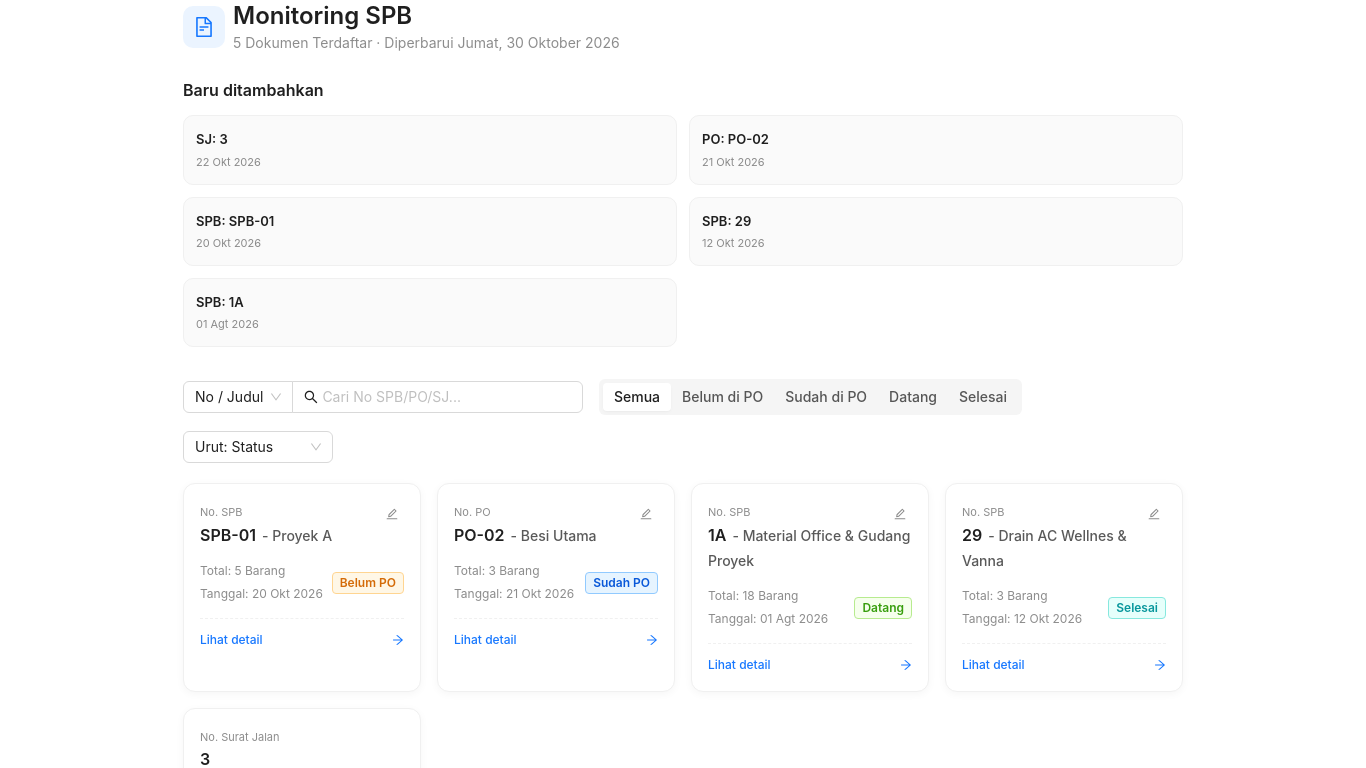
Test: MonitoringSPBPage - Fitur Pencarian, Filter, Sorting, dan Edit Judul › menampilkan ikon pensil kecil pada card SPB dan PO serta dapat mengedit judulnya
This screenshot has width=1366, height=768.
Check: the button with test id "edit-po-title-PO-02" is shown, box [634,503,658,523]
// Klik ikon pensil pada SPB-01
Click the button with test id "edit-spb-title-SPB-01": (392,513) [380,503,404,523]
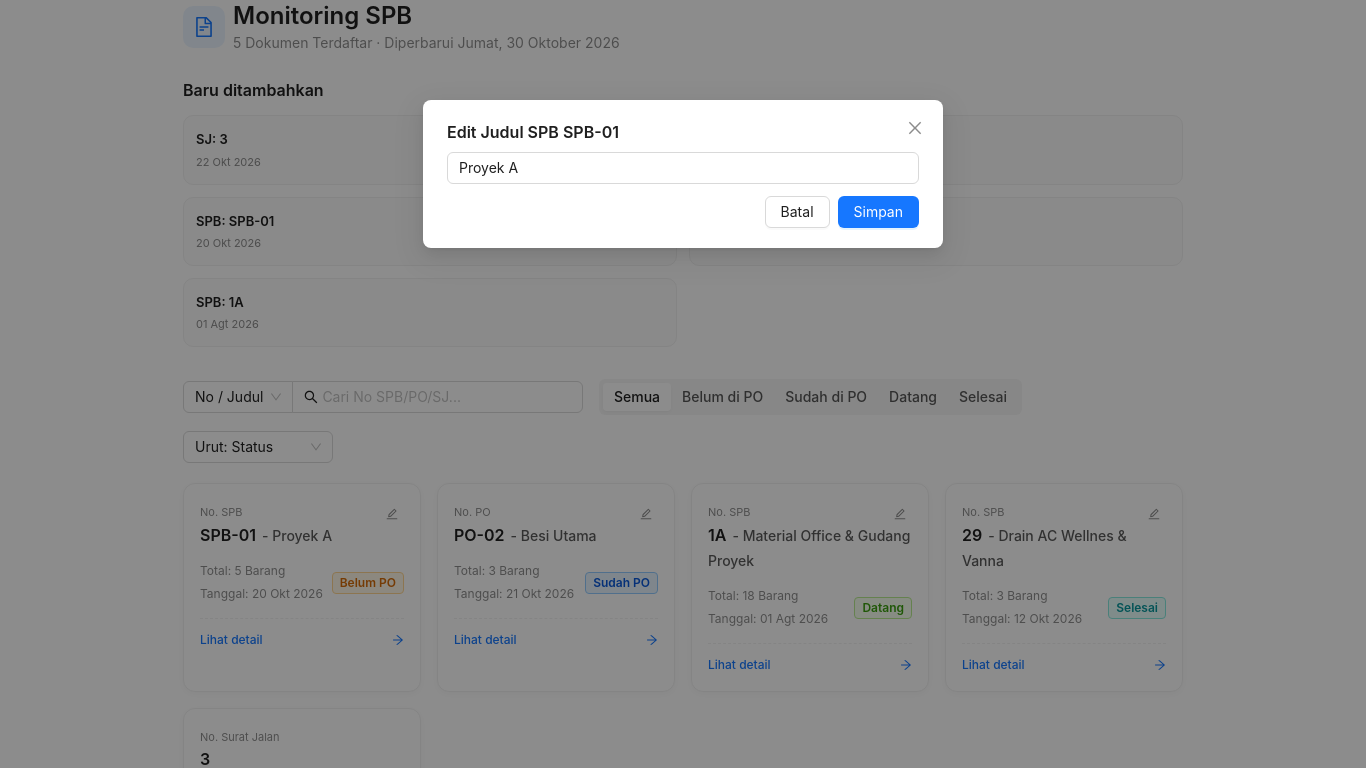
Check: the field named "Input Judul Dokumen" holds "Proyek A"
Replace the text in the field named "Input Judul Dokumen" with "Proyek Renovasi Villa": (683,168) [447,152,919,184]
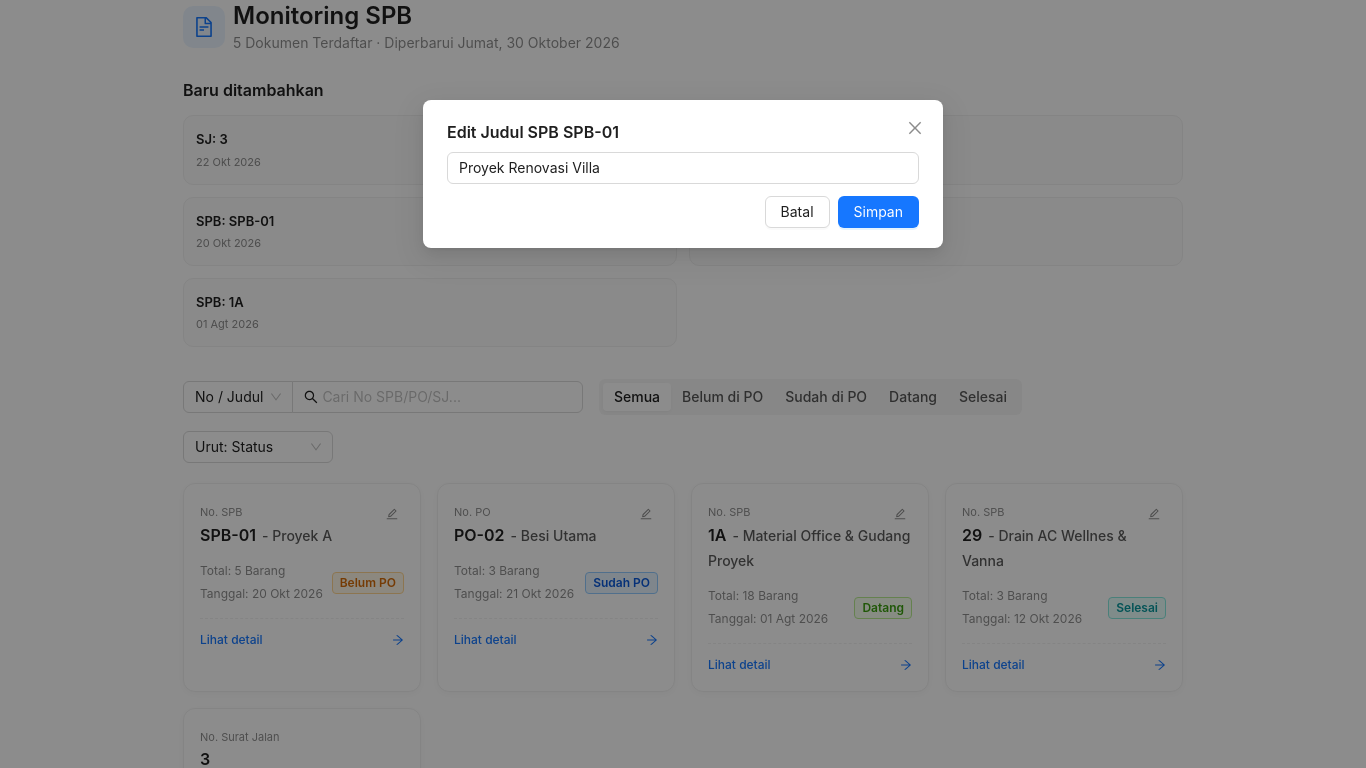
Click the button "Simpan": (878,212) [838,196,919,228]
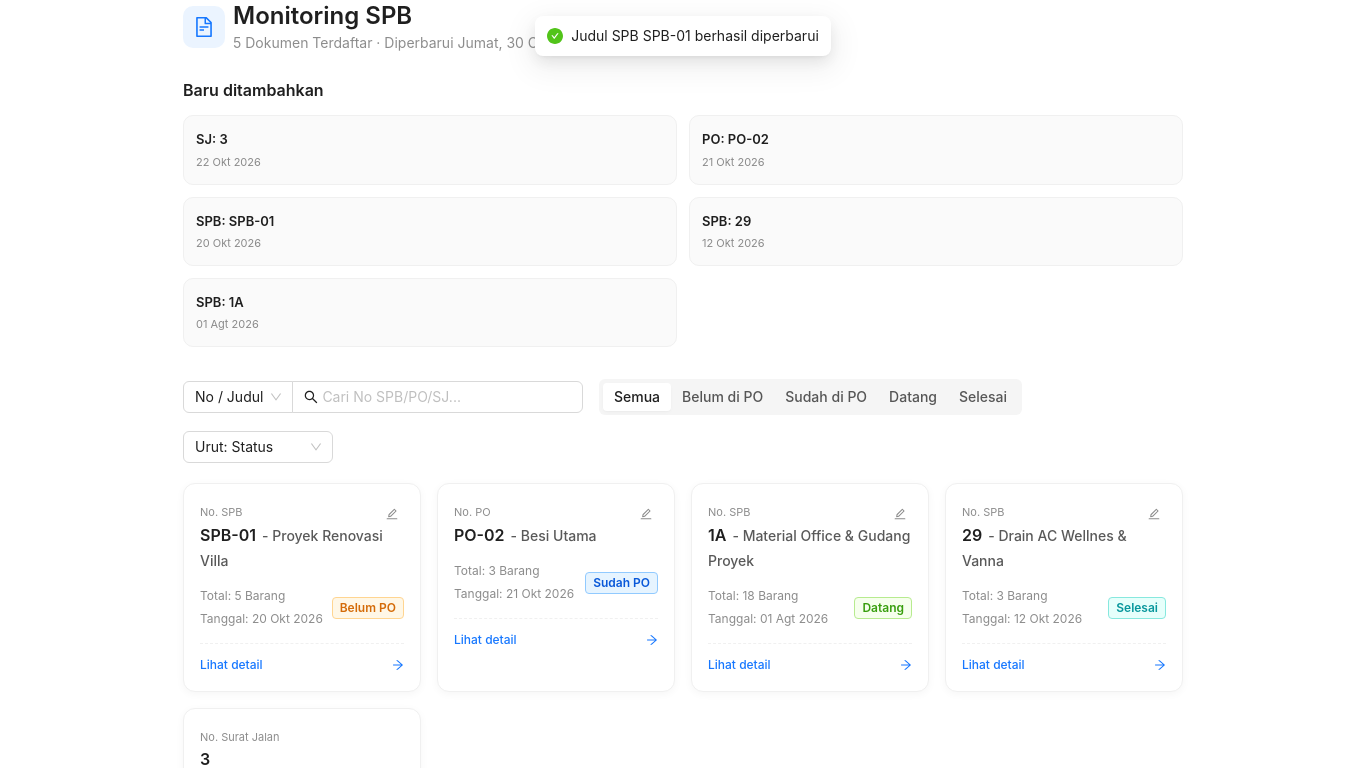
Check: the text "- Proyek Renovasi Villa" is shown, box [200,527,383,569]
